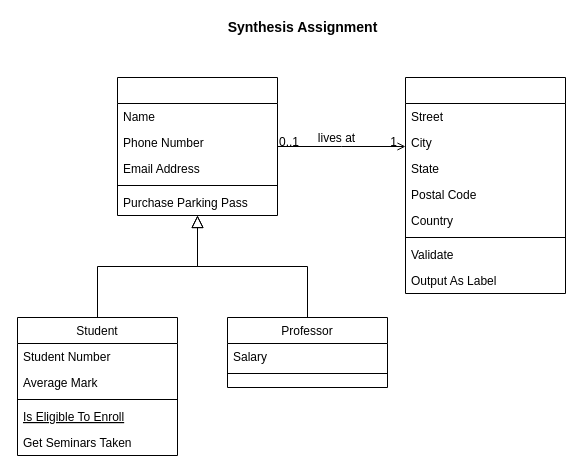
Image size: 583x475. Some labels were removed from this diagram. The shapes that lost their labels are listed below. From the top down, each one's box as (x1, y1, x2, y2) in pixels, then its label:
(116, 76, 278, 216): Person
(404, 76, 566, 294): Address
